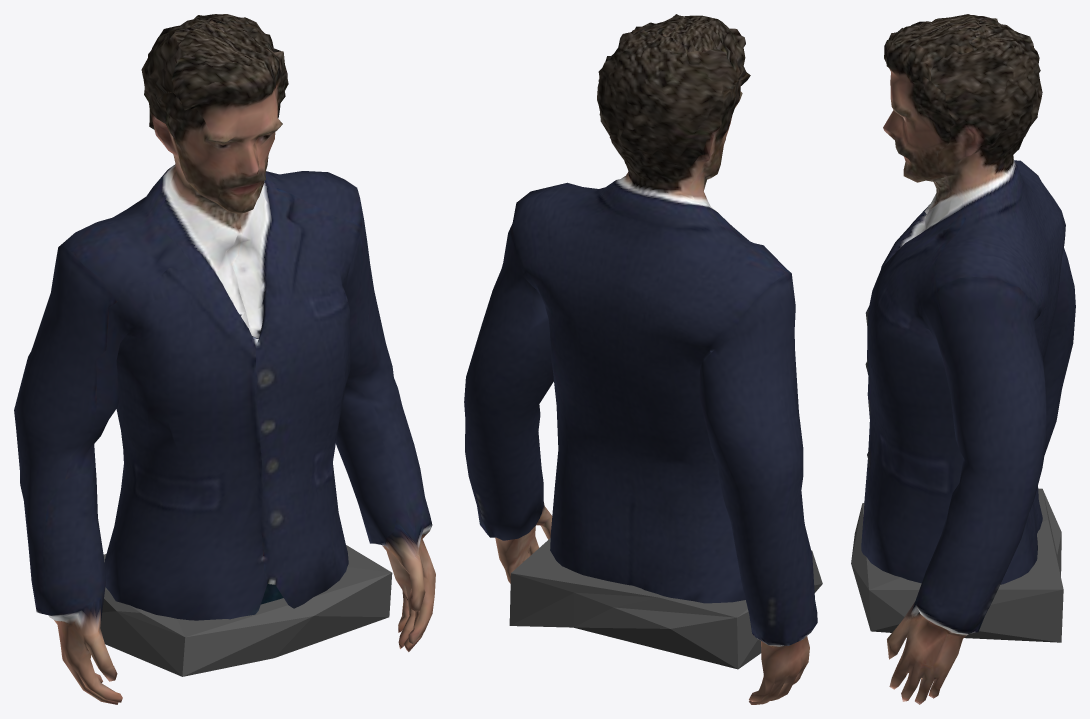
The picture shows the model from 3 angles, left to right: view 1: azimuth 30°, elevation 25°; view 2: azimuth 150°, elevation 25°; view 3: azimuth 270°, elevation 25°; orthographic projection. The views are drawn at different scales.
Parts seen in each view (by area): view 1: remesh_12_combined_Remeshed, Cube; view 2: remesh_12_combined_Remeshed, Cube; view 3: remesh_12_combined_Remeshed, Cube.
Part boxes in pixels (box(x1,y1,x2,y2)): remesh_12_combined_Remeshed: box(14, 14, 435, 704); Cube: box(100, 545, 392, 676); remesh_12_combined_Remeshed: box(464, 14, 817, 704); Cube: box(509, 538, 822, 669); remesh_12_combined_Remeshed: box(861, 14, 1075, 704); Cube: box(851, 488, 1063, 642).
Size of the model in its own units: 62.19 by 108 by 35.28.
2 materials, 1 textured.
